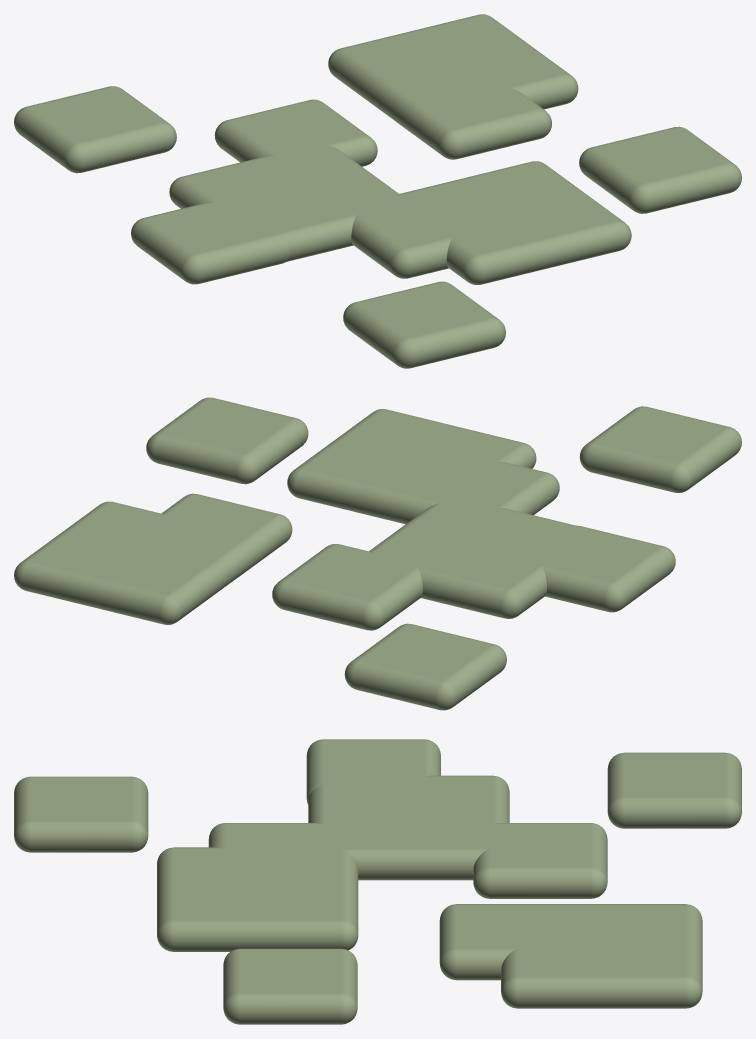
The model's file is grass.gltf.
3 views of the same model, one above another, from view 1: azimuth 30°, elevation 25°; view 2: azimuth 150°, elevation 25°; view 3: azimuth 270°, elevation 25° (orthographic). The views are drawn at different scales.
Visible parts, largest first — view 1: Cube 4, Cube 6, Cube, Cube 9, Cube 10, Cube 8, Cube 7, Cube 5, Cube 3, Cube 2; view 2: Cube 6, Cube 4, Cube, Cube 8, Cube 10, Cube 9, Cube 3, Cube 7, Cube 5, Cube 2; view 3: Cube 4, Cube 6, Cube, Cube 10, Cube 8, Cube 9, Cube 3, Cube 5, Cube 7, Cube 2.
Part boxes in pixels (x1=…): Cube 4: x1=396, y1=161, x2=631, y2=284; Cube 6: x1=328, y1=14, x2=578, y2=120; Cube: x1=169, y1=144, x2=403, y2=261; Cube 9: x1=343, y1=281, x2=505, y2=368; Cube 10: x1=579, y1=126, x2=741, y2=213; Cube 8: x1=14, y1=86, x2=176, y2=173; Cube 7: x1=131, y1=199, x2=290, y2=284; Cube 5: x1=390, y1=74, x2=551, y2=159; Cube 3: x1=214, y1=99, x2=377, y2=166; Cube 2: x1=351, y1=195, x2=484, y2=278; Cube 6: x1=14, y1=501, x2=246, y2=624; Cube 4: x1=287, y1=409, x2=536, y2=524; Cube: x1=369, y1=497, x2=583, y2=618; Cube 8: x1=344, y1=623, x2=506, y2=710; Cube 10: x1=146, y1=397, x2=308, y2=484; Cube 9: x1=579, y1=406, x2=741, y2=492; Cube 3: x1=272, y1=544, x2=422, y2=630; Cube 7: x1=530, y1=525, x2=675, y2=612; Cube 5: x1=146, y1=493, x2=292, y2=576; Cube 2: x1=448, y1=456, x2=559, y2=514; Cube 4: x1=157, y1=847, x2=358, y2=951; Cube 6: x1=501, y1=904, x2=702, y2=1008; Cube: x1=308, y1=775, x2=509, y2=880; Cube 10: x1=223, y1=948, x2=357, y2=1024; Cube 8: x1=607, y1=752, x2=741, y2=828; Cube 9: x1=14, y1=776, x2=148, y2=852; Cube 3: x1=473, y1=823, x2=607, y2=898; Cube 5: x1=439, y1=904, x2=557, y2=980; Cube 7: x1=306, y1=739, x2=440, y2=804; Cube 2: x1=208, y1=823, x2=326, y2=866.
Bounding box in the file's own units: 0.9377 × 0.05 × 1.08.
